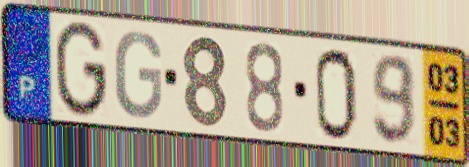0: (312, 45, 360, 143)
8: (180, 32, 230, 130), (243, 39, 284, 135)
9: (370, 51, 420, 148)
G: (53, 18, 109, 121), (112, 29, 164, 122)
